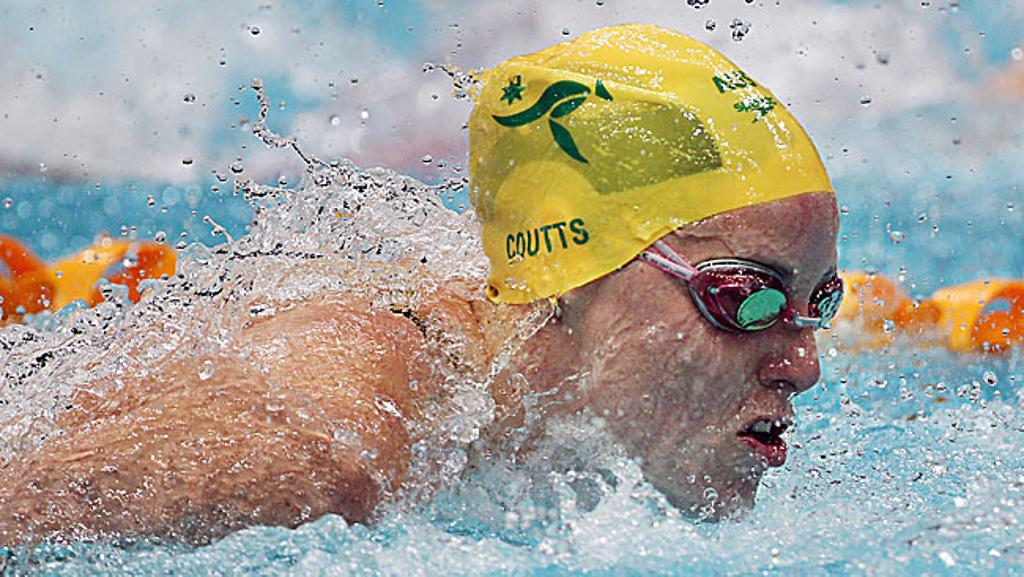face: (620, 162, 834, 516)
